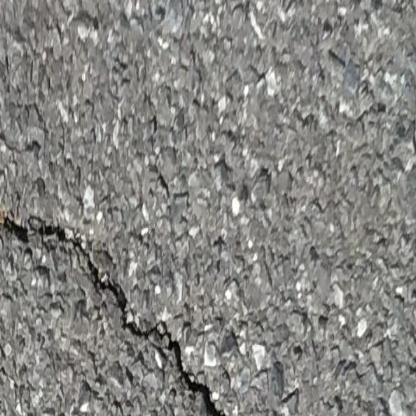Cracks: (0, 210, 252, 416)
